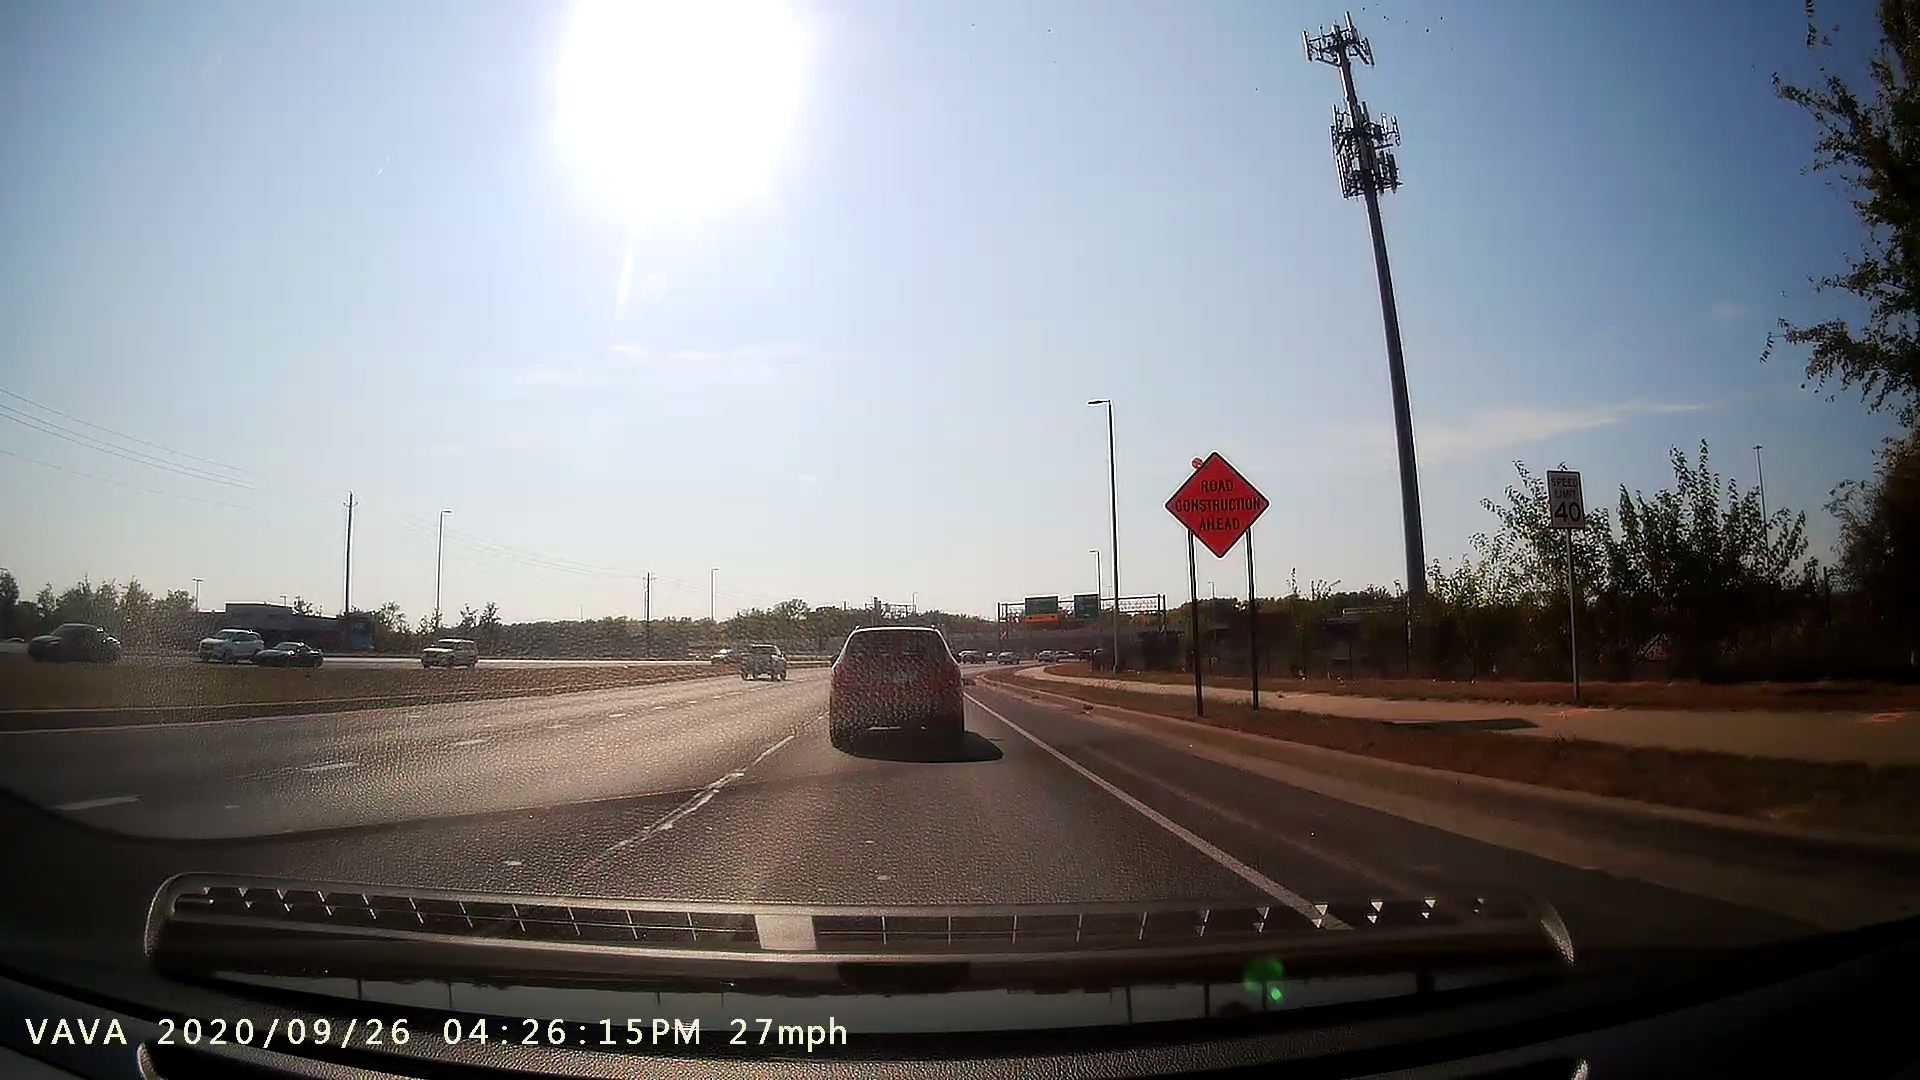ttcs_end_const: (1153, 436, 1286, 720)
